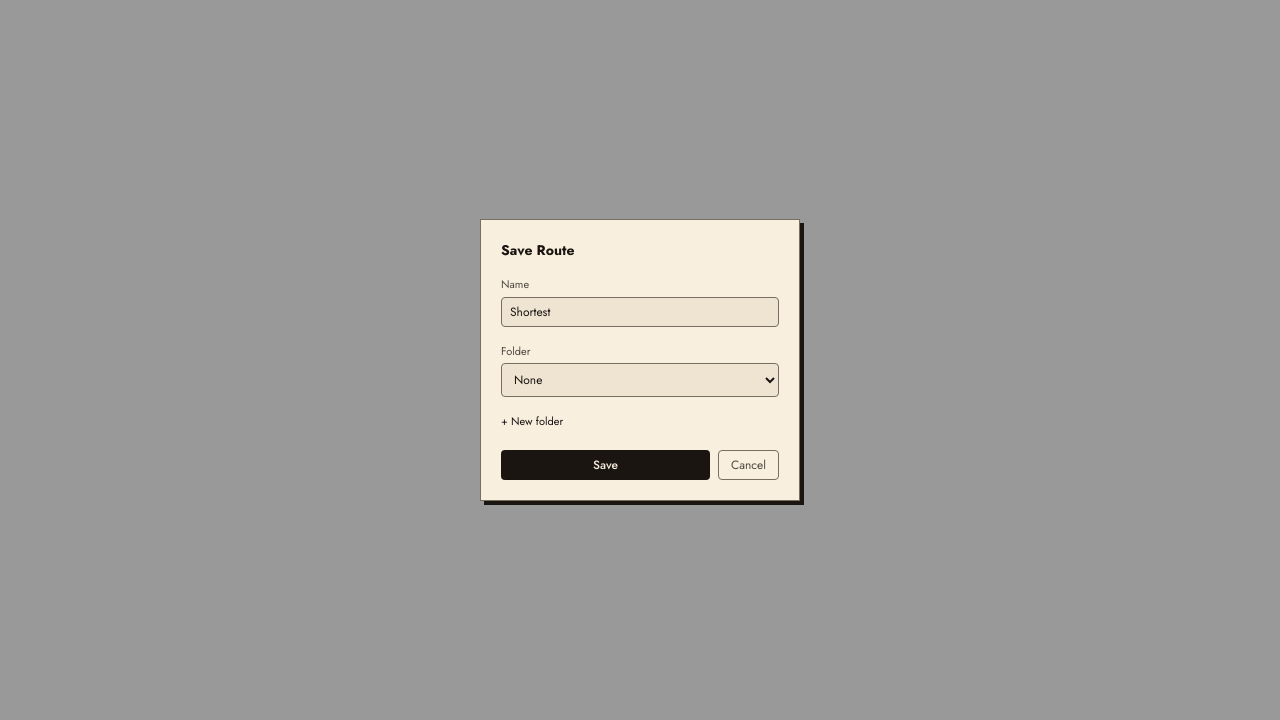
Scenario: SaveRouteModal when storage refuses the write › reports a folder that could not be created instead of throwing
Click the button "+ New folder" at (532, 422), box [501,413,563,430]
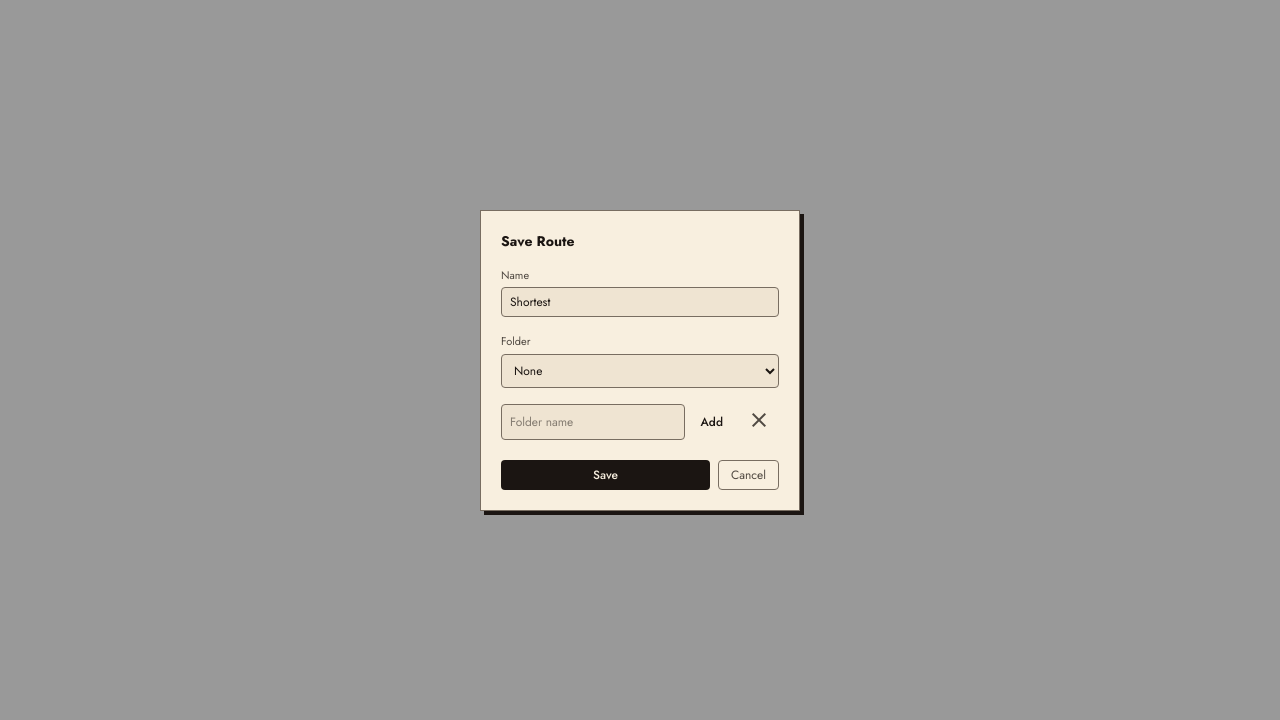
Type "Summer" into the field with placeholder "Folder name" at (593, 422), box [501,404,685,440]
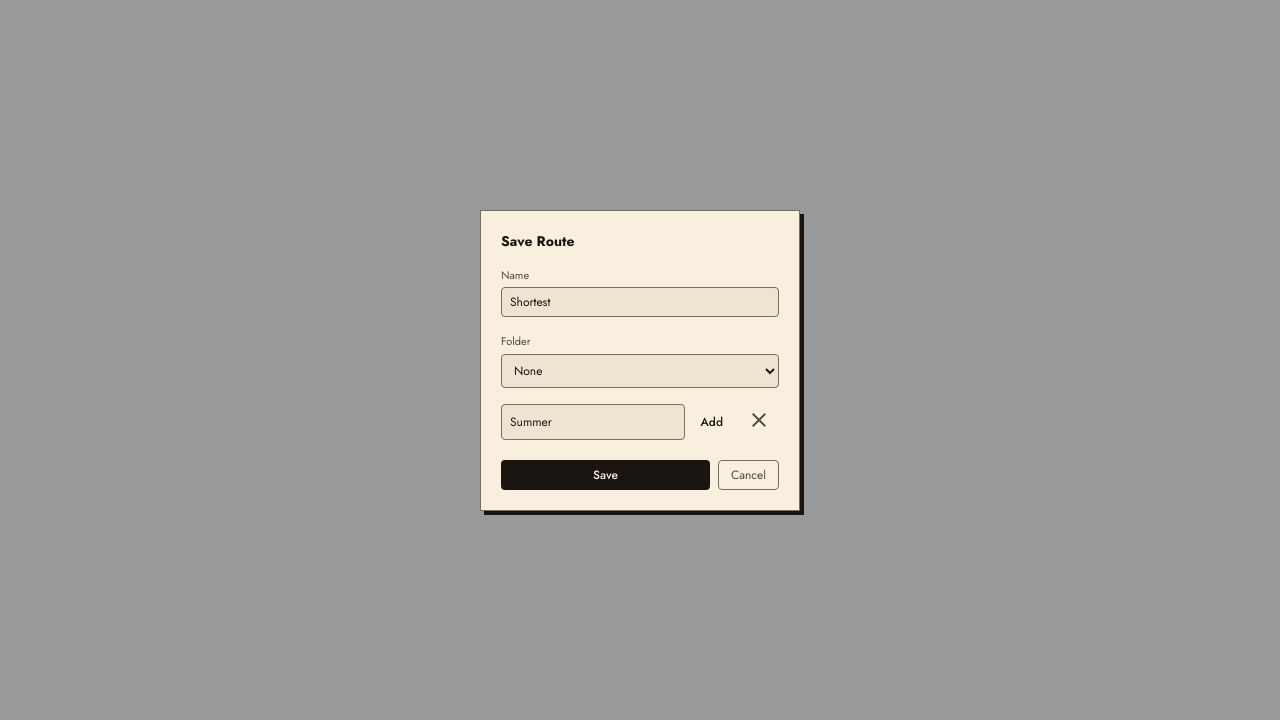
Click the button "Add" at (712, 422), box [693,404,731,440]
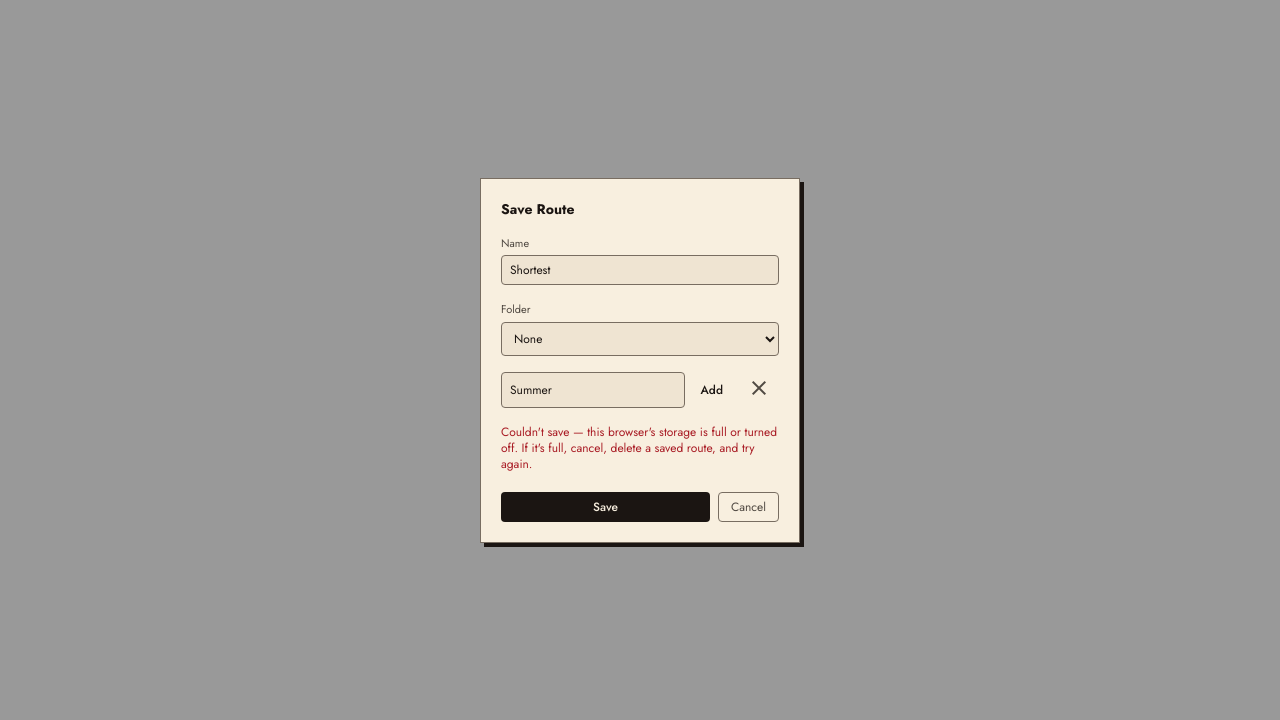
Expected: the message shows "storage is full", [501,422,777,472]
